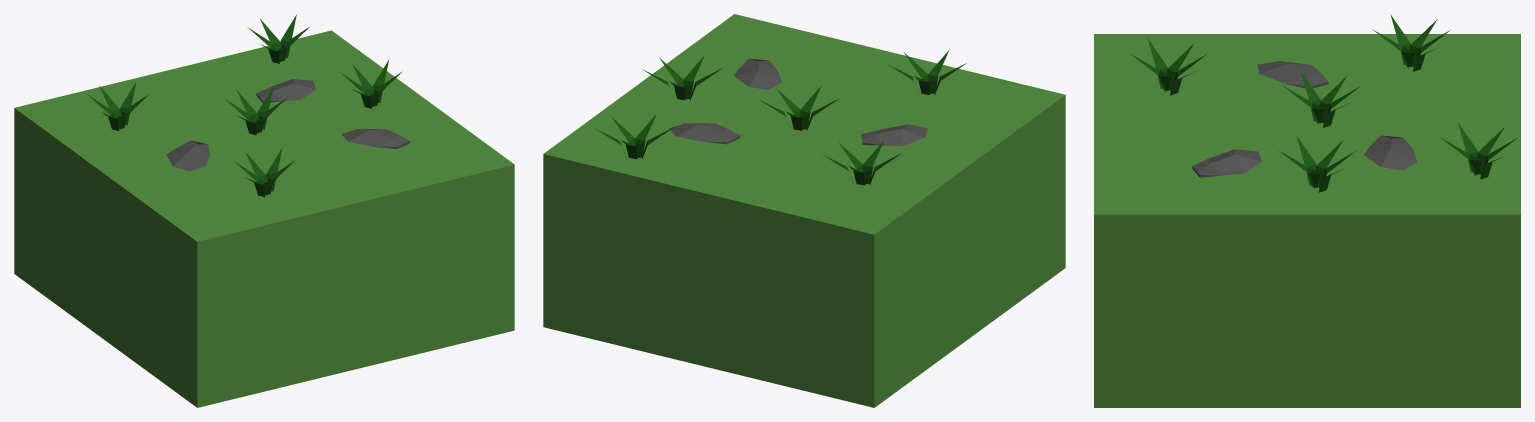
Rendered from TileGroind(1).fbx.
The picture shows the model from 3 angles, left to right: view 1: azimuth 30°, elevation 25°; view 2: azimuth 150°, elevation 25°; view 3: azimuth 270°, elevation 25°; orthographic projection. The views are drawn at different scales.
Visible parts, largest first — view 1: Ground; view 2: Ground; view 3: Ground.
Part boxes in pixels (<box>): Ground: <box>14,14,514,407</box>; Ground: <box>543,14,1065,407</box>; Ground: <box>1094,14,1520,407</box>.
Bounding box in the file's own units: 400 × 237 × 400.
